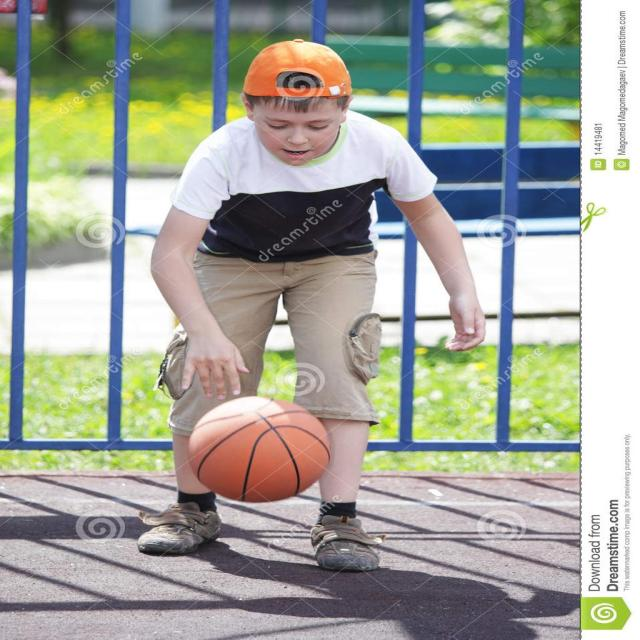Face: (235, 72, 364, 161)
